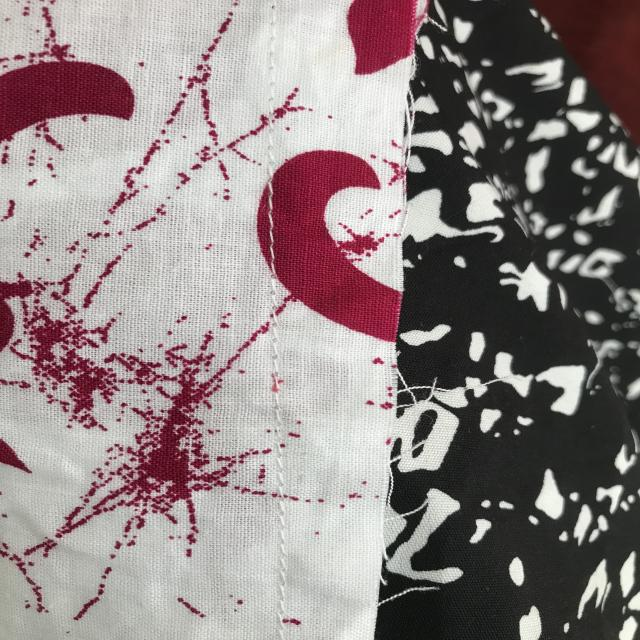good: (254, 500, 310, 600), (258, 193, 294, 272)
